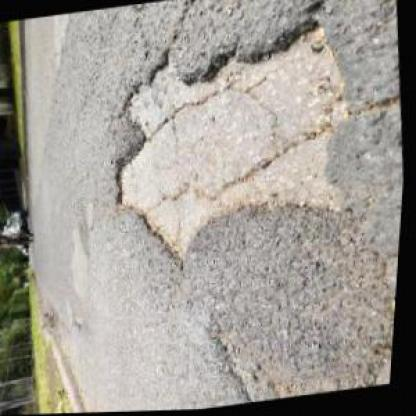pothole: (92, 10, 366, 274)
